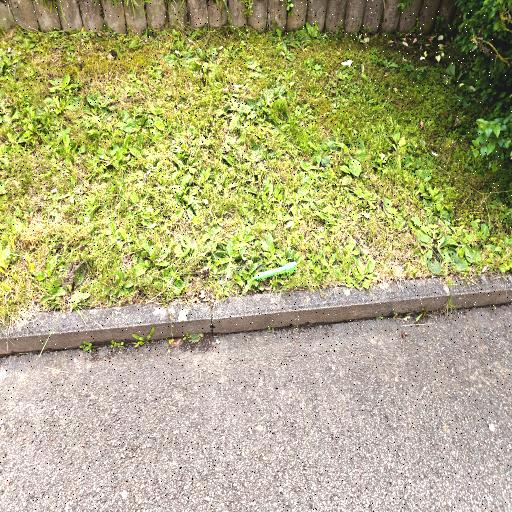Probe-Detection: (253, 262, 297, 280)
